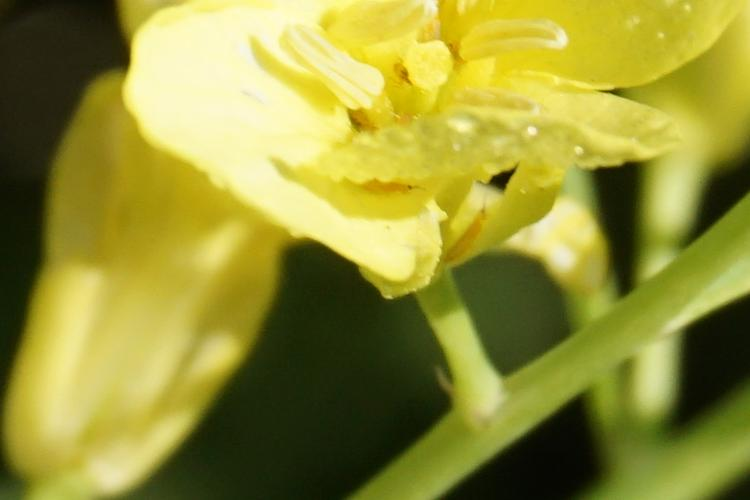yellow: (122, 13, 673, 273), (41, 124, 286, 469)
